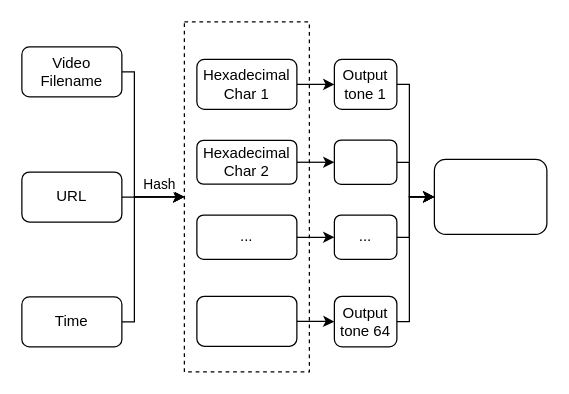
The diagram is 569 pixels wide and 394 high, and some of its shapes have lost their labels. The shapes that lost their labels are listed below. From the top down, each one's box as (x1, y1, x2, y2) in pixels, then its label:
(333, 139, 397, 184): Output tone 2
(183, 21, 309, 372): SHA-256 Hash
(433, 158, 547, 234): Audio Watermark (Concatenation)
(196, 295, 297, 346): Hexadecimal Char 64
